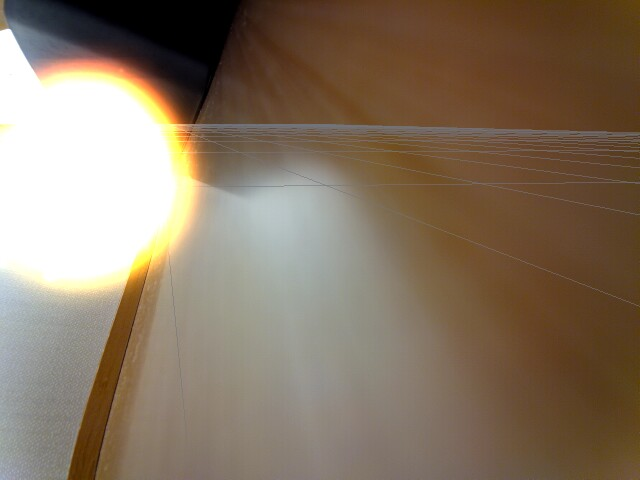firebig: (0, 15, 202, 313)
